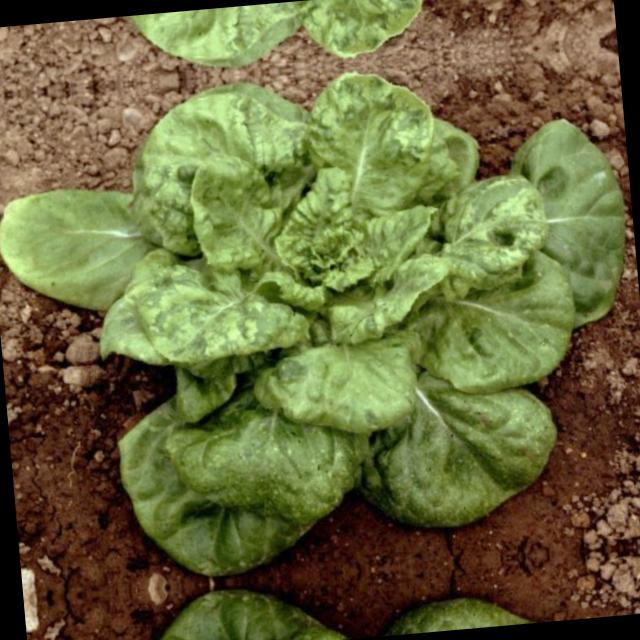lettuce mosaic virus: (125, 122, 539, 514)
